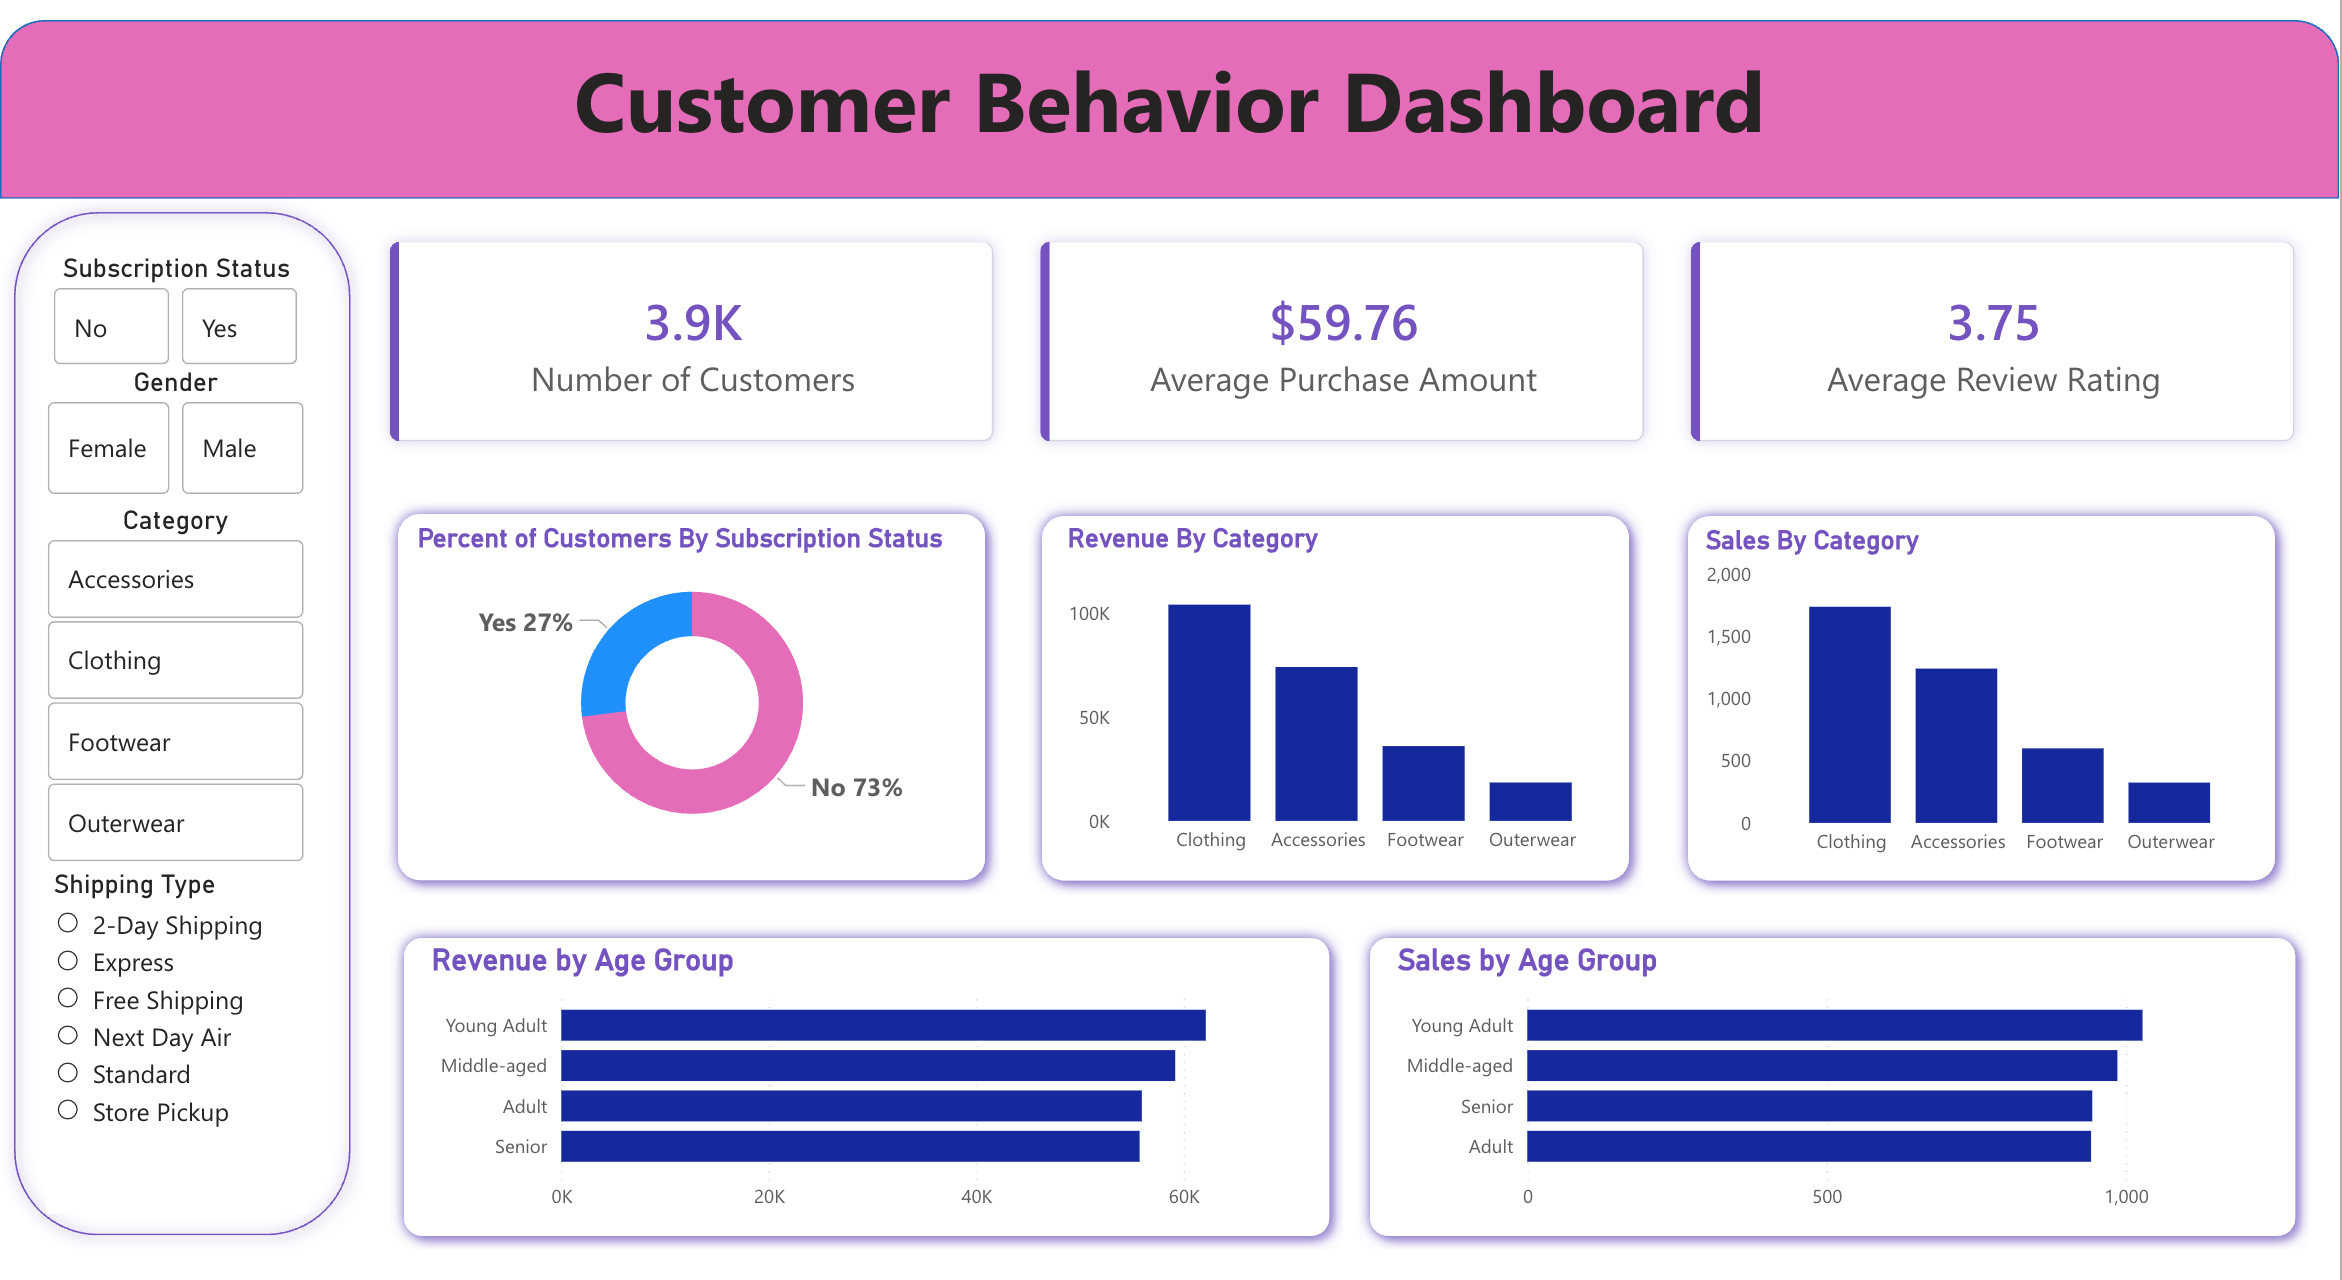

The dashboard page shown, as its layout file describes it:
{"tool":"powerbi","page":{"name":"Page 1","canvas":[1500,820],"ordinal":0},"visuals":[{"type":"cardVisual","fields":{"Data":["clean_customer_data.Number of Customers","clean_customer_data.Average Purchase Amount","clean_customer_data.Average Review Rating"]},"box":[222.4,146,1277.2,184.2],"z":0},{"type":"shape","box":[0,31.5,1499.6,114.6],"z":1000},{"type":"textbox","box":[0,40.4,1499.6,132.5],"z":2000},{"type":"shape","box":[246,340.4,394.3,252.7],"z":3000},{"type":"donutChart","title":"Percent of Customers By Subscription Status","fields":{"Category":["clean_customer_data.subscription_status"],"Y":["CountNonNull(clean_customer_data.customer_id)"]},"box":[262.8,356.1,361.7,211.2],"z":4000},{"type":"shape","box":[1072.7,341.5,394.3,251.6],"z":5000},{"type":"shape","box":[659.4,341.5,394.3,251.6],"z":6000},{"type":"clusteredColumnChart","title":"Revenue By Category","fields":{"Y":["Sum(clean_customer_data.purchase_amount)"],"Category":["clean_customer_data.category"]},"box":[679.6,356.1,362.8,219],"z":6001},{"type":"clusteredColumnChart","title":"Sales By Category","fields":{"Y":["CountNonNull(clean_customer_data.customer_id)"],"Category":["clean_customer_data.category"]},"box":[1088.5,357.2,362.8,219],"z":6002},{"type":"shape","box":[0,146,233.6,674],"z":6003},{"type":"advancedSlicerVisual","title":"Subscription Status","fields":{"Values":["clean_customer_data.subscription_status"]},"box":[29.2,183.1,167.4,75.3],"z":6004},{"type":"advancedSlicerVisual","title":"Gender","fields":{"Values":["clean_customer_data.gender"]},"box":[25.8,256.1,174.1,85.4],"z":6005},{"type":"advancedSlicerVisual","title":"Category","fields":{"Values":["clean_customer_data.category"]},"box":[25.8,344.8,174.1,233.6],"z":6006},{"type":"listSlicer","title":"Shipping Type","fields":{"Values":["clean_customer_data.shipping_type"]},"box":[29.2,578.5,167.4,219],"z":6007},{"type":"shape","box":[250.5,611.1,611.1,208.9],"z":6009},{"type":"shape","box":[869.4,611.1,611.1,208.9],"z":6010},{"type":"clusteredBarChart","title":"Sales by Age Group","fields":{"Y":["CountNonNull(clean_customer_data.customer_id)"],"Category":["clean_customer_data.age_group"]},"box":[890.8,625.7,568.4,178.6],"z":6011},{"type":"clusteredBarChart","title":"Revenue by Age Group","fields":{"Y":["Sum(clean_customer_data.purchase_amount)"],"Category":["clean_customer_data.age_group"]},"box":[271.8,625.7,568.4,178.6],"z":6012}]}

Visuals, with their boxes in screenshot pixels (x1, y1, x2, y2), scaled from the page's 1500x820 canvas onto the 2342x1280 screenshot:
cardVisual - clean_customer_data.Number of Customers x clean_customer_data.Average Purchase Amount: detection(347, 228, 2341, 515)
shape: detection(0, 49, 2341, 228)
textbox: detection(0, 63, 2341, 270)
shape: detection(384, 531, 1000, 926)
"Percent of Customers By Subscription Status" donutChart: detection(410, 556, 975, 886)
shape: detection(1675, 533, 2290, 926)
shape: detection(1030, 533, 1645, 926)
"Revenue By Category" clusteredColumnChart: detection(1061, 556, 1628, 898)
"Sales By Category" clusteredColumnChart: detection(1700, 558, 2266, 899)
shape: detection(0, 228, 365, 1279)
"Subscription Status" advancedSlicerVisual: detection(46, 286, 307, 403)
"Gender" advancedSlicerVisual: detection(40, 400, 312, 533)
"Category" advancedSlicerVisual: detection(40, 538, 312, 903)
"Shipping Type" listSlicer: detection(46, 903, 307, 1245)
shape: detection(391, 954, 1345, 1279)
shape: detection(1357, 954, 2312, 1279)
"Sales by Age Group" clusteredBarChart: detection(1391, 977, 2278, 1255)
"Revenue by Age Group" clusteredBarChart: detection(424, 977, 1312, 1255)
